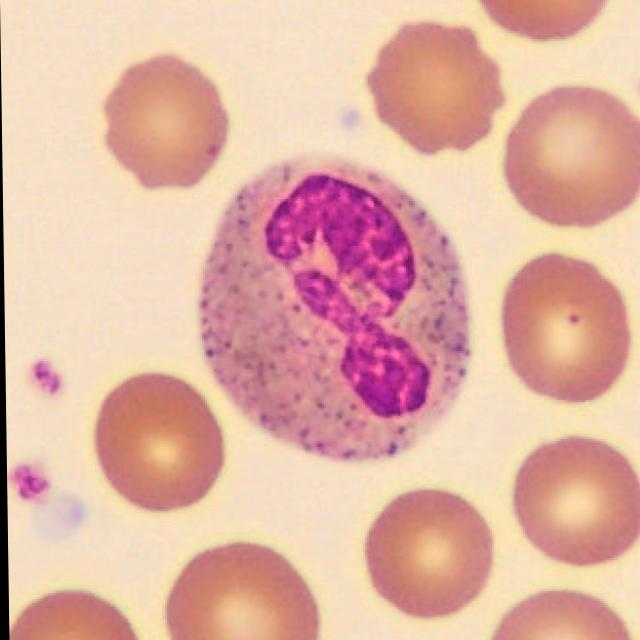Neutrofilo segmentado: (197, 154, 468, 464)
